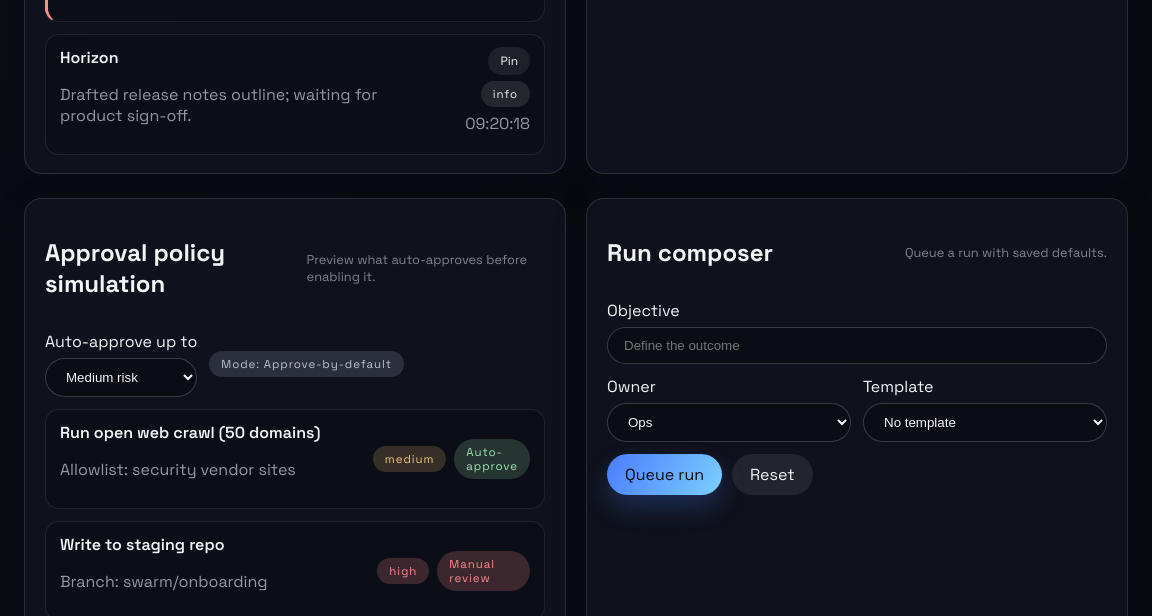
Scenario: queues a run from the composer and shows it in the list
The image size is (1152, 616).
(page scrolled)
Type "Investigate customer churn spikes" into the field labelled "Objective" at (857, 345), box left=607, top=327, right=1107, bottom=364
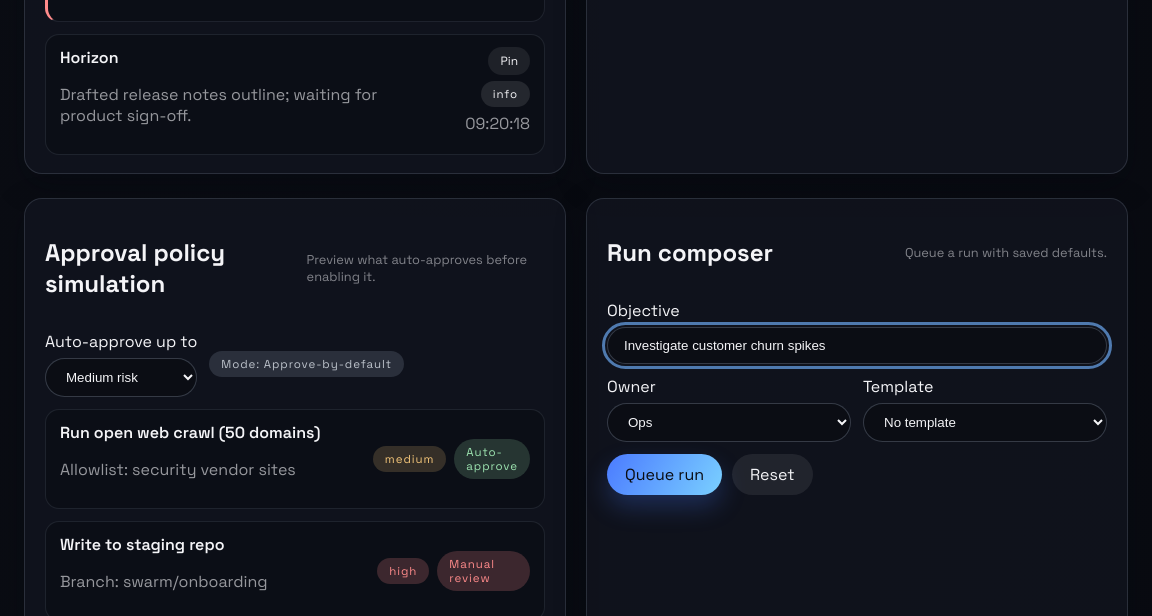
Select "Research" in the dropdown labelled "Owner" at (729, 422), box left=607, top=403, right=851, bottom=442
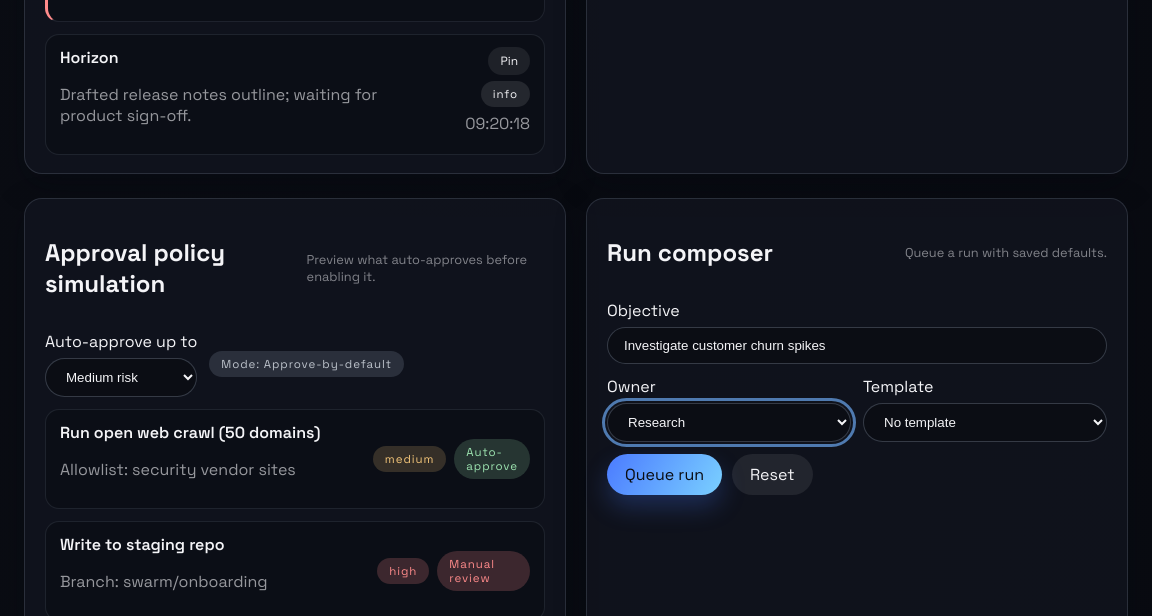
Click the button "Queue run" at (664, 474), box left=607, top=454, right=722, bottom=495
(page scrolled)
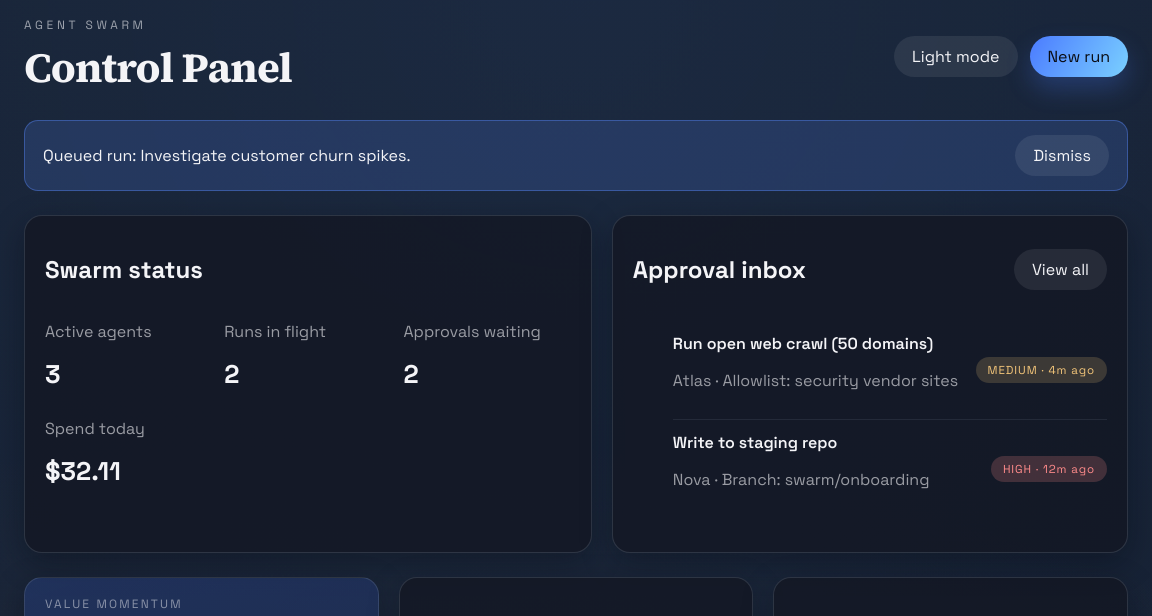
Now the text "Queued run: Investigate customer churn spikes." is shown, box left=43, top=145, right=411, bottom=166
